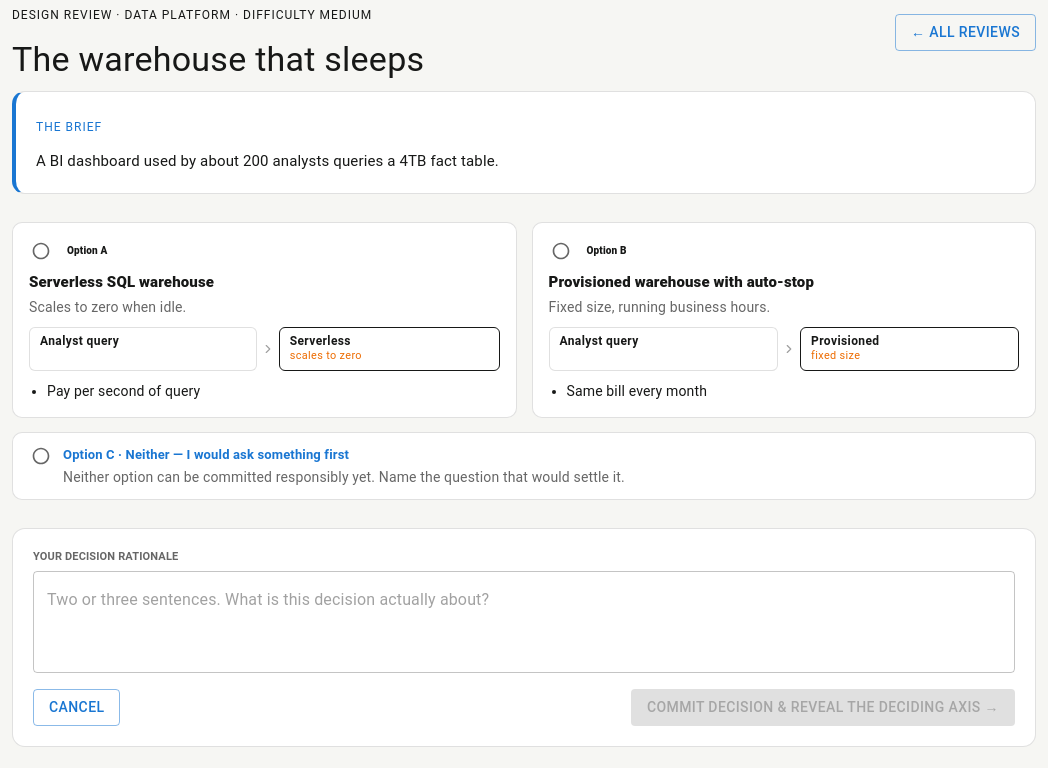
DesignReviewPage › says "Not graded" rather than showing a zero when nothing graded the answer
Click the heading "Serverless SQL warehouse": (122, 282) 29,273 -> 214,291
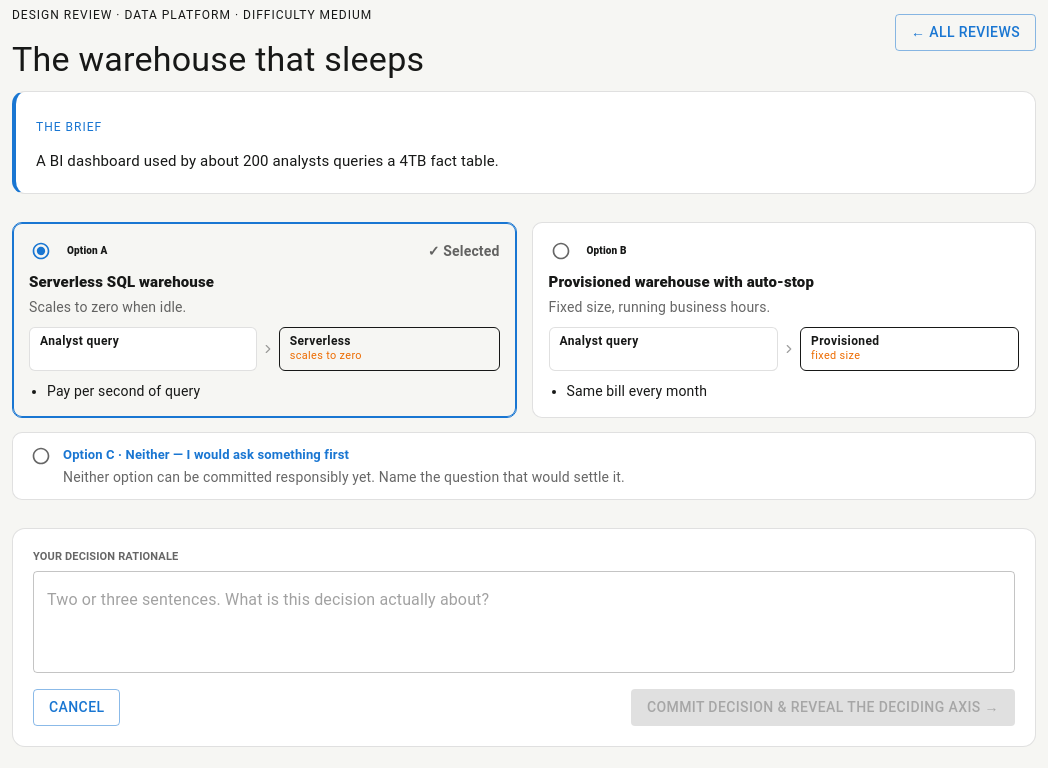
In the text box with placeholder "Two or three sentences": (524, 622) 47,588 -> 1001,657, type "Reasoning."
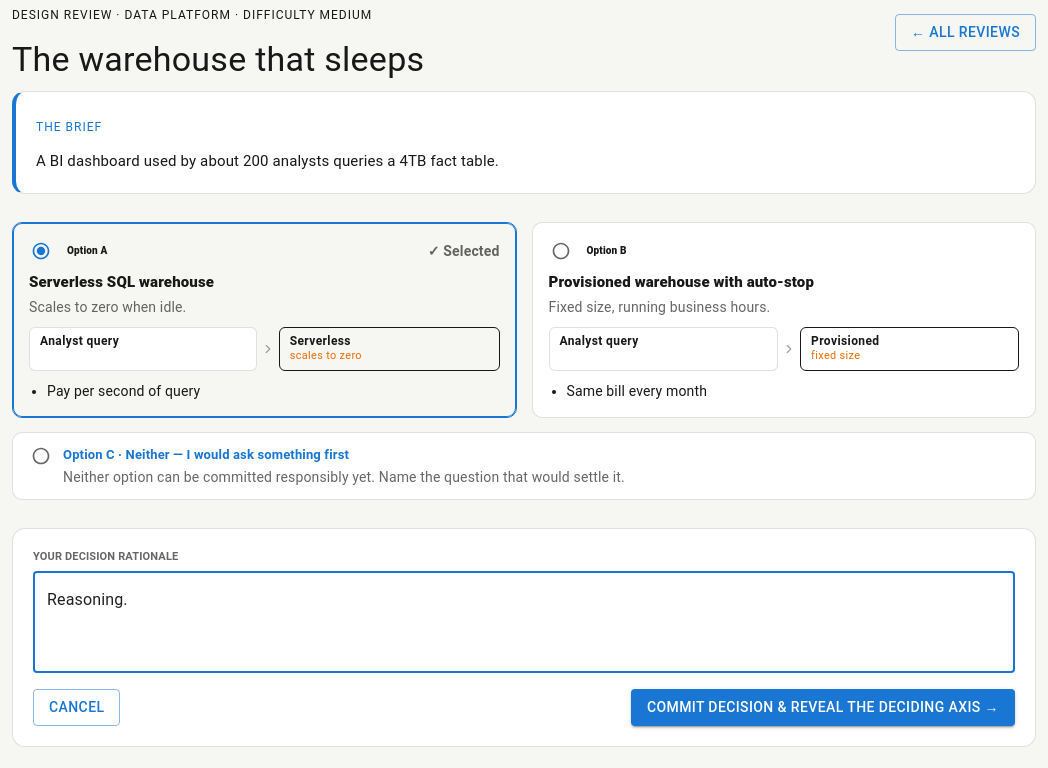
Click the button "Commit decision & reveal the deciding axis →": (823, 707) 631,689 -> 1015,726
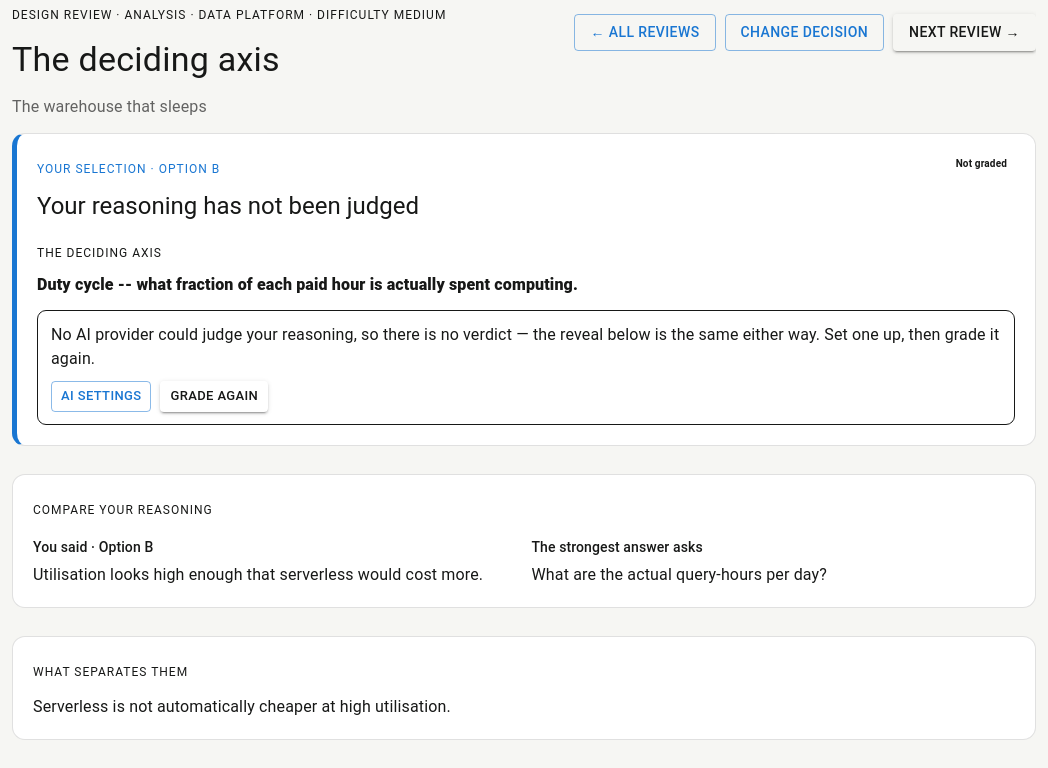
Expected: the text "Not graded" is shown, 956,158 -> 1007,169
